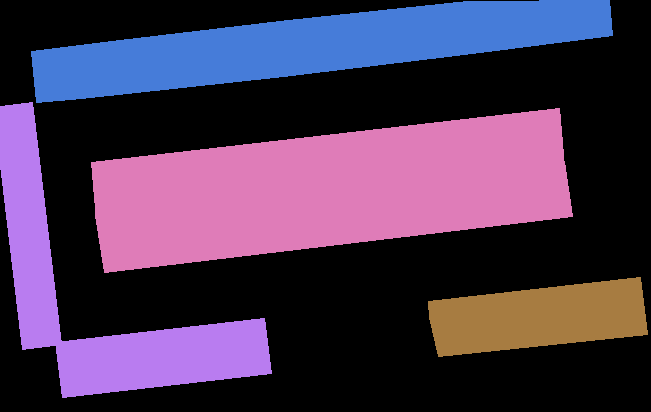parkingspot: (31, 0, 612, 102), (91, 108, 564, 220), (95, 161, 572, 272), (428, 277, 647, 356), (55, 318, 271, 397), (0, 102, 61, 349)
